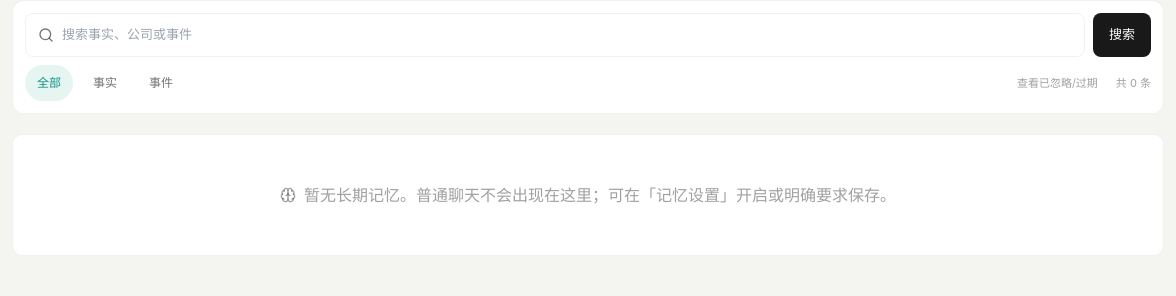
Test: MemoryPanel › 当前记忆为空时仍能打开已忽略或过期记录筛选
The image size is (1176, 296).
Click the button "查看已忽略/过期".
click(1057, 83)  # box [1007,65,1108,101]
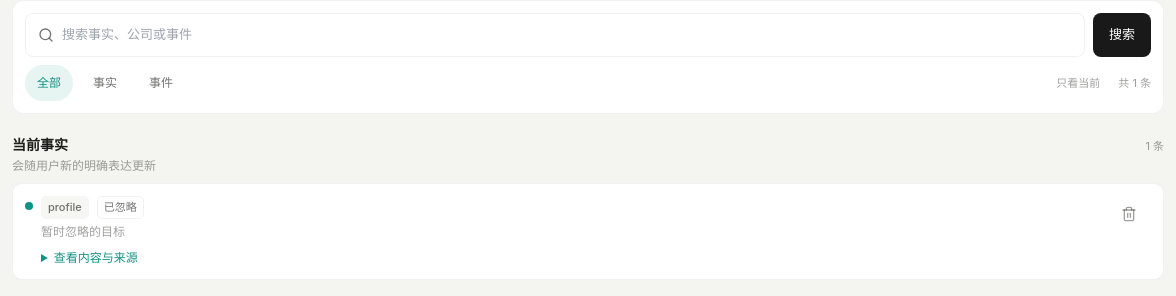
expect the text "暂时忽略的目标" is shown: met, box [41,224,125,238]
